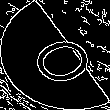O_NE: (14, 23, 96, 87)
